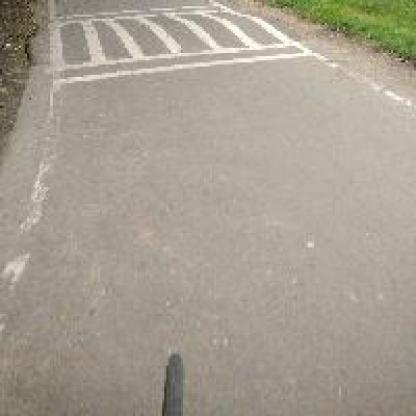Speed Bump: (48, 2, 316, 90)
